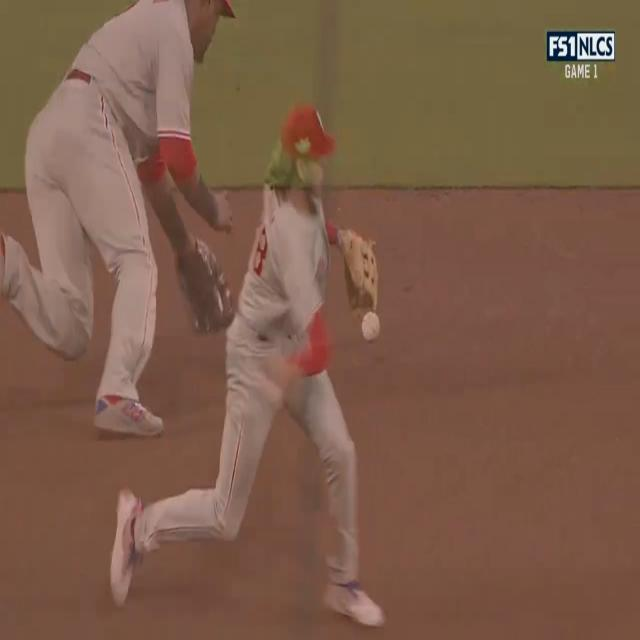baseball: (362, 311, 380, 343)
